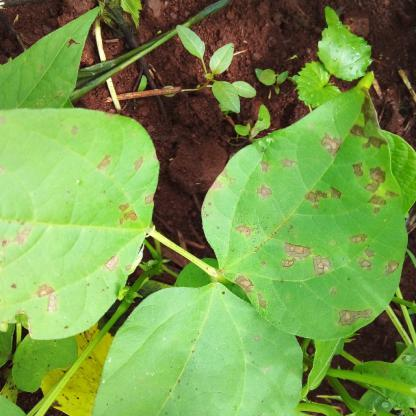Beans_Angular_LeafSpot: (195, 90, 406, 341), (1, 94, 158, 335), (87, 288, 307, 416)
